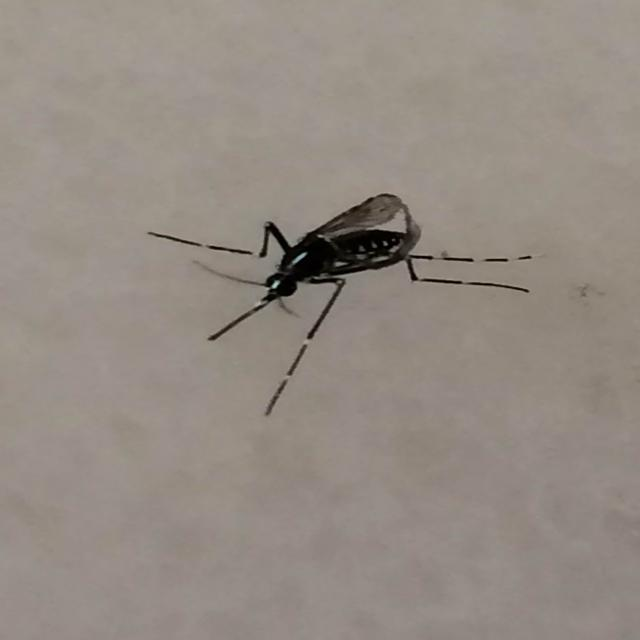albopictus: (147, 169, 538, 407)
